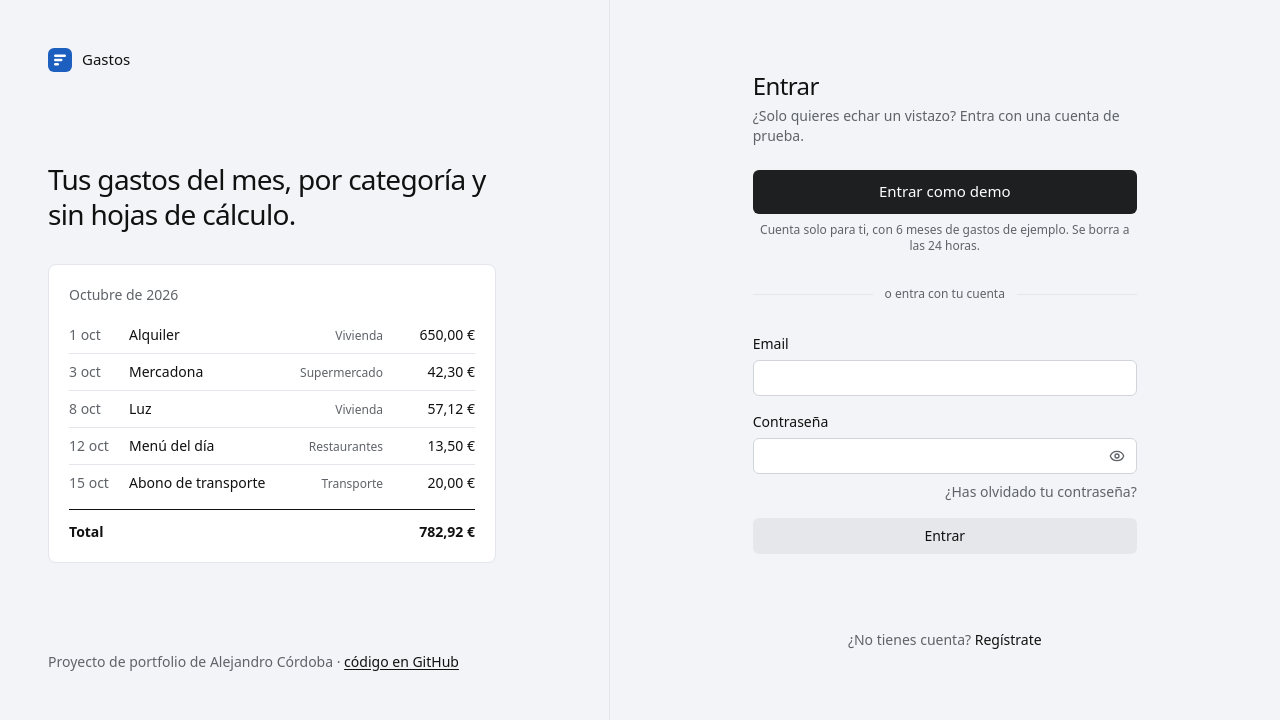
authentication › shows the API error when the credentials are wrong
Type "ana@example.com" into the field labelled "Email" at {"x": 945, "y": 378}, box [753,360,1137,396]
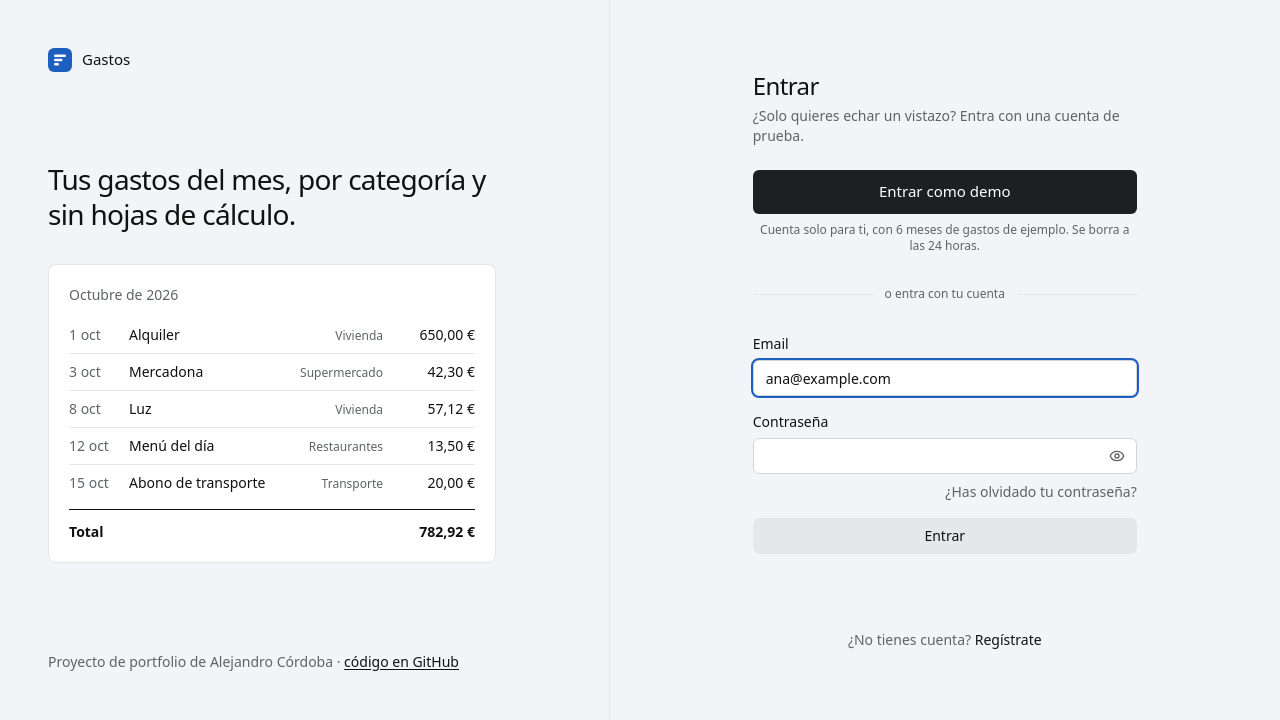
Type "wrong-password" into the password field labelled "Contraseña" at {"x": 945, "y": 456}, box [753,438,1137,474]
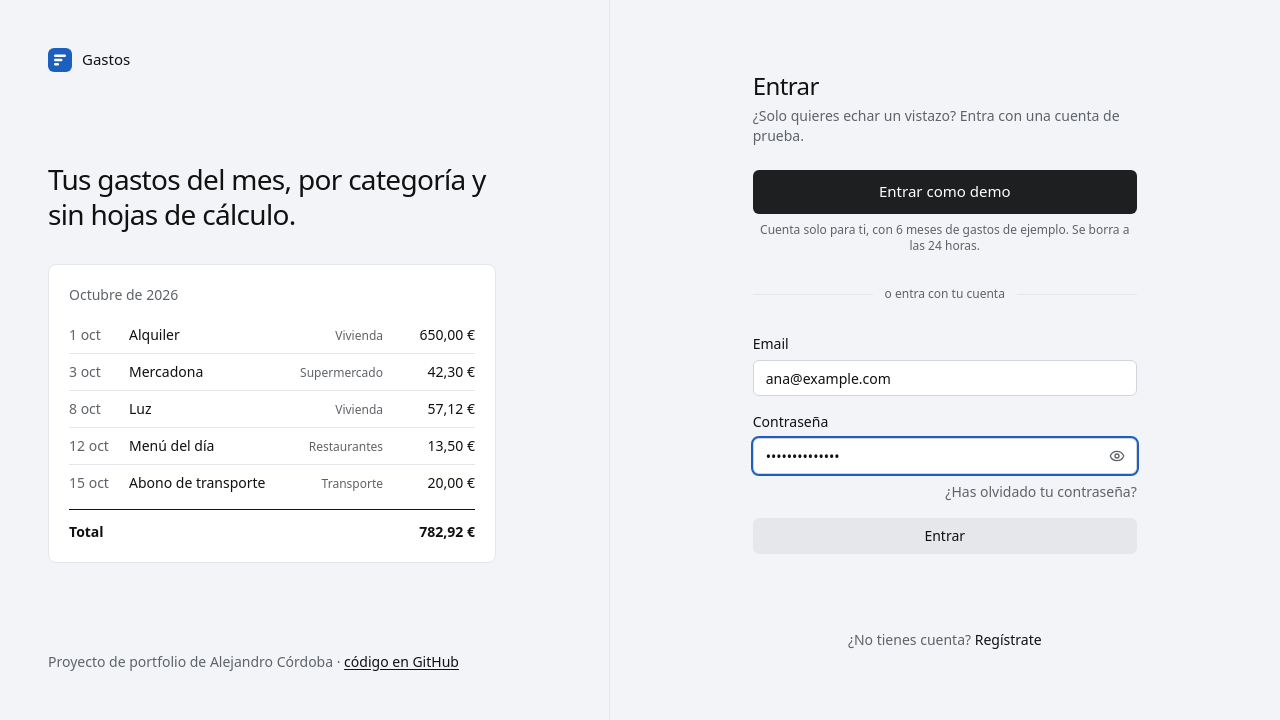
Click the button "Entrar" at {"x": 945, "y": 536}, box [753,518,1137,554]
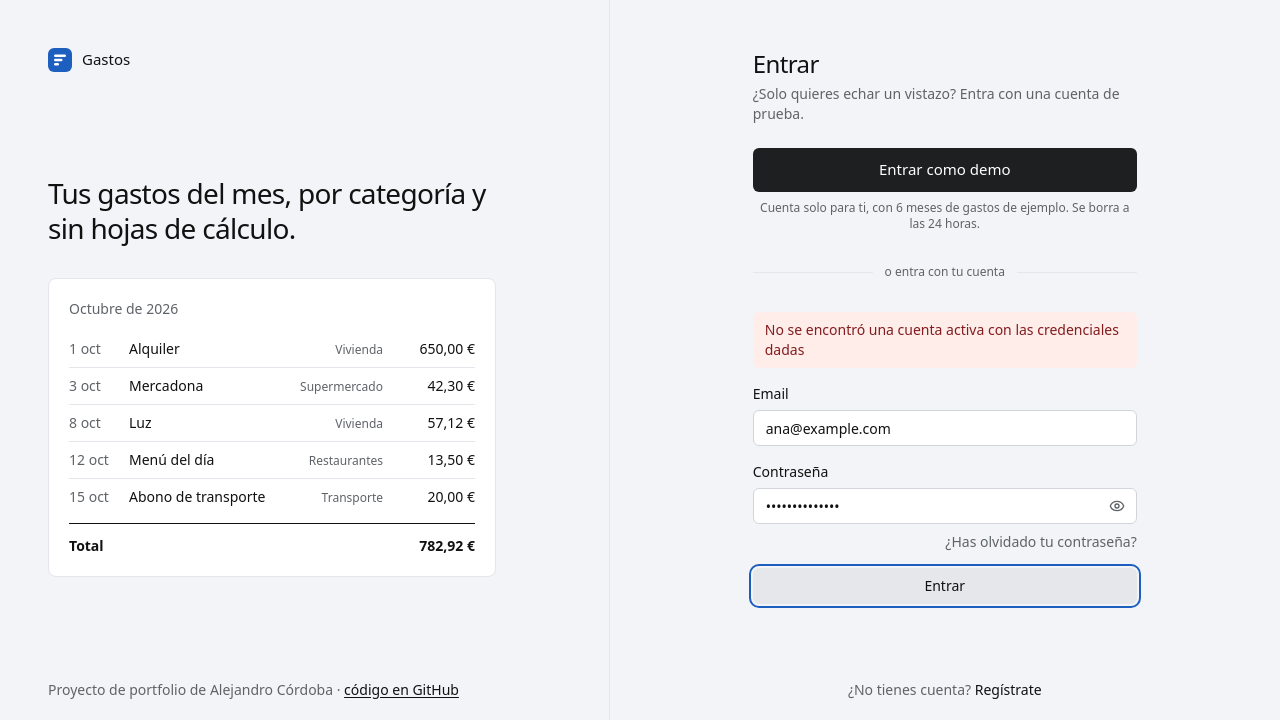
Check: the message shows "No se encontró una cuenta activa", box [765,320,1119,359]
